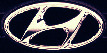Hyundai: (2, 1, 105, 52)
